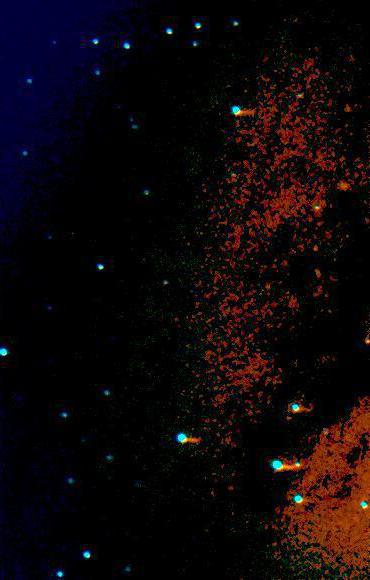star: (327, 173, 357, 203)
